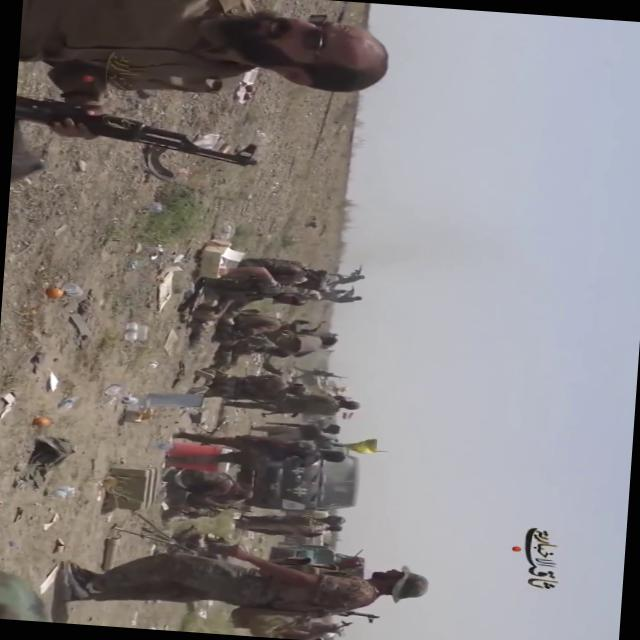long weapon: (10, 90, 278, 188)
